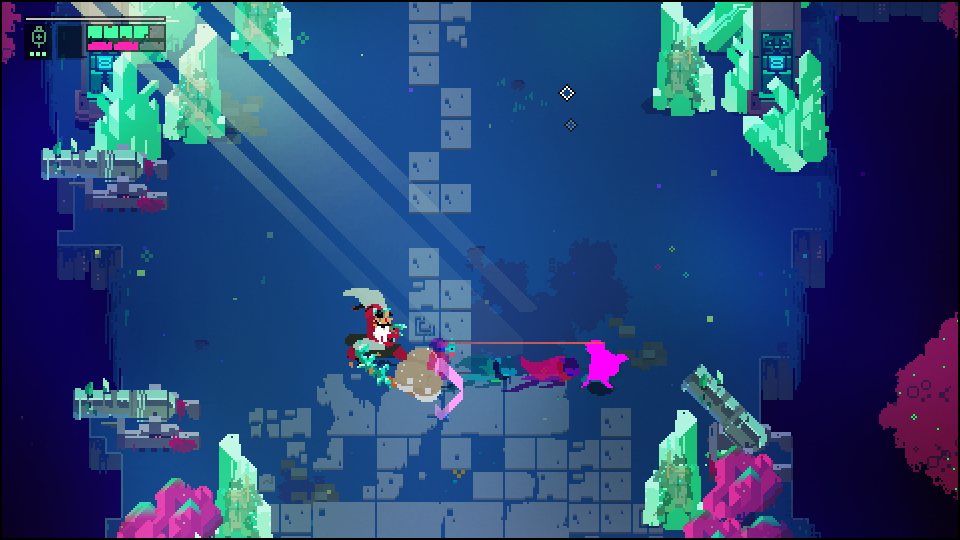hanged_man: (343, 284, 412, 390)
player: (579, 336, 631, 390)
